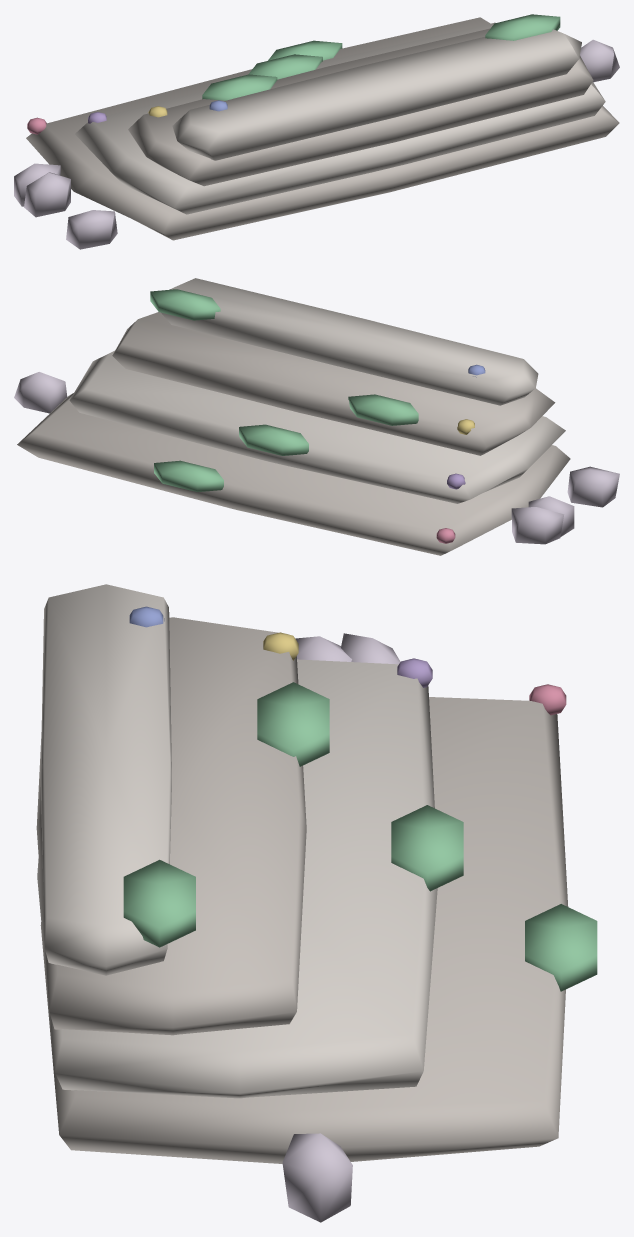
The model's file is shrine_steps.gltf.
3 renders of one model, top to bottom at view 1: azimuth 30°, elevation 25°; view 2: azimuth 150°, elevation 25°; view 3: azimuth 270°, elevation 25°, orthographic. The views are drawn at different scales.
Visible parts, largest first — view 1: shrine_steps; view 2: shrine_steps; view 3: shrine_steps.
Part boxes in pixels (x1=…): shrine_steps: x1=14, y1=14, x2=619, y2=249; shrine_steps: x1=14, y1=278, x2=619, y2=555; shrine_steps: x1=36, y1=584, x2=597, y2=1222.
Size of what is drawn, in the model's own units: 4.81 by 0.8789 by 2.09.
